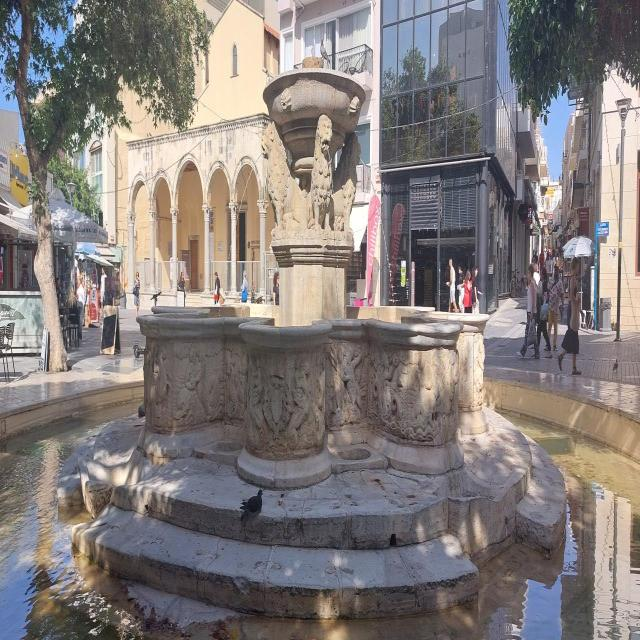Liontaria: (138, 60, 492, 489)
